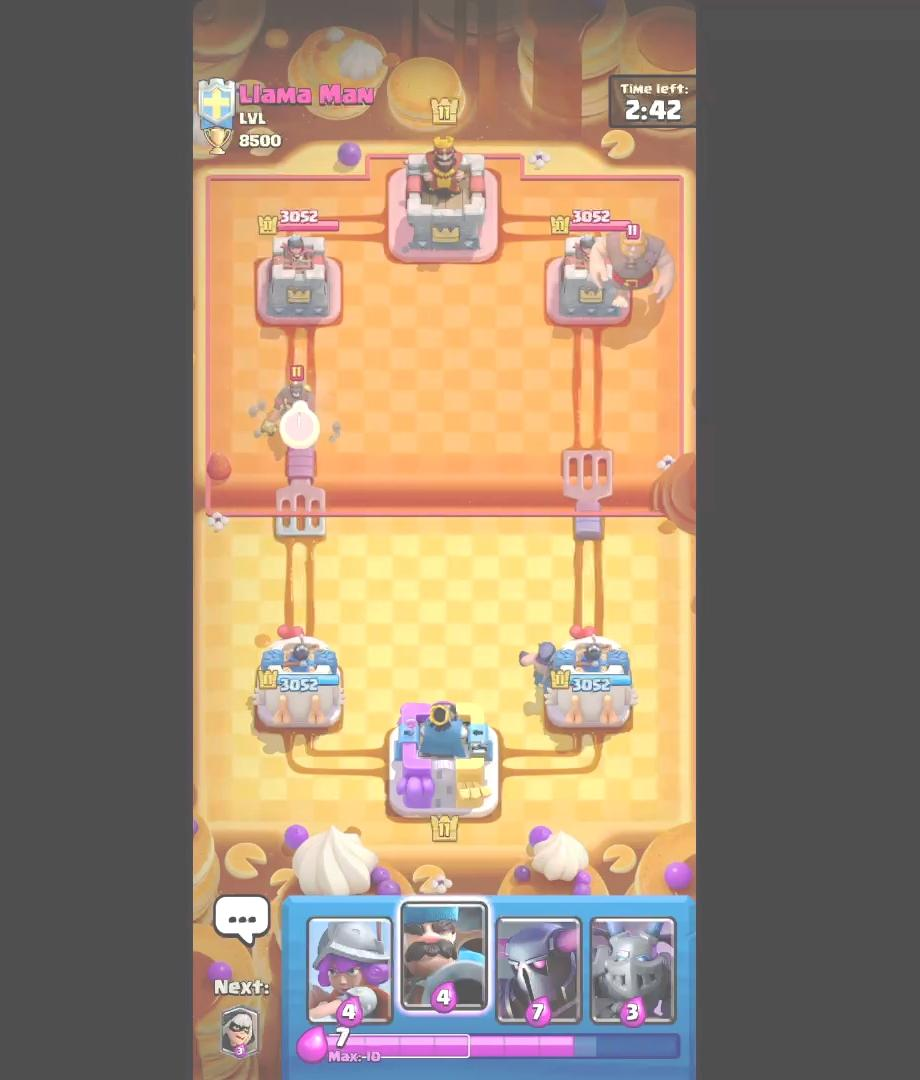Giant: (579, 218, 683, 327)
Hog Rider: (258, 363, 322, 450)
